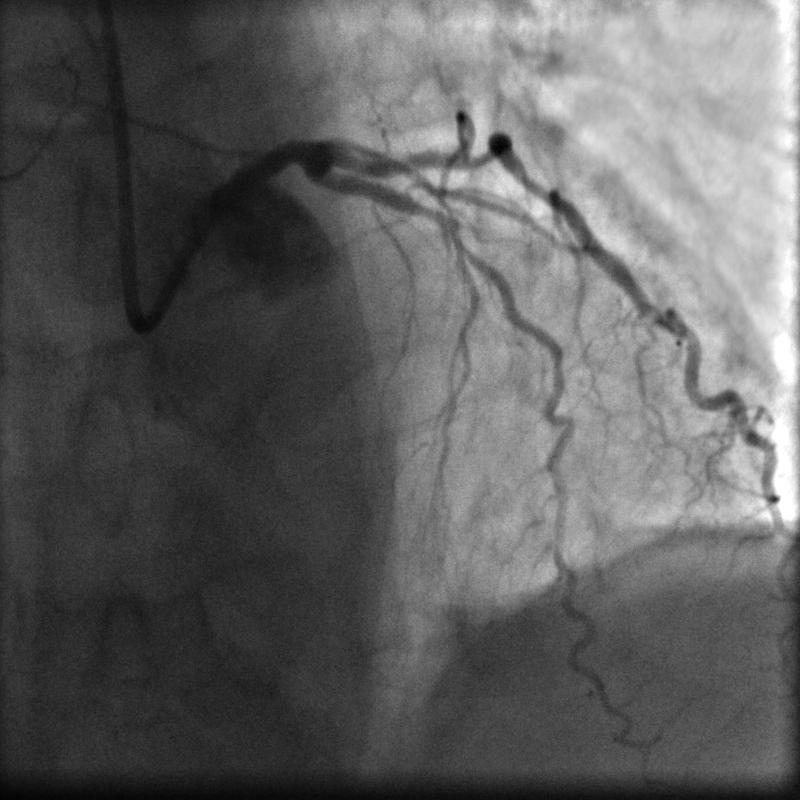Stenosis: (411, 189, 459, 245)
